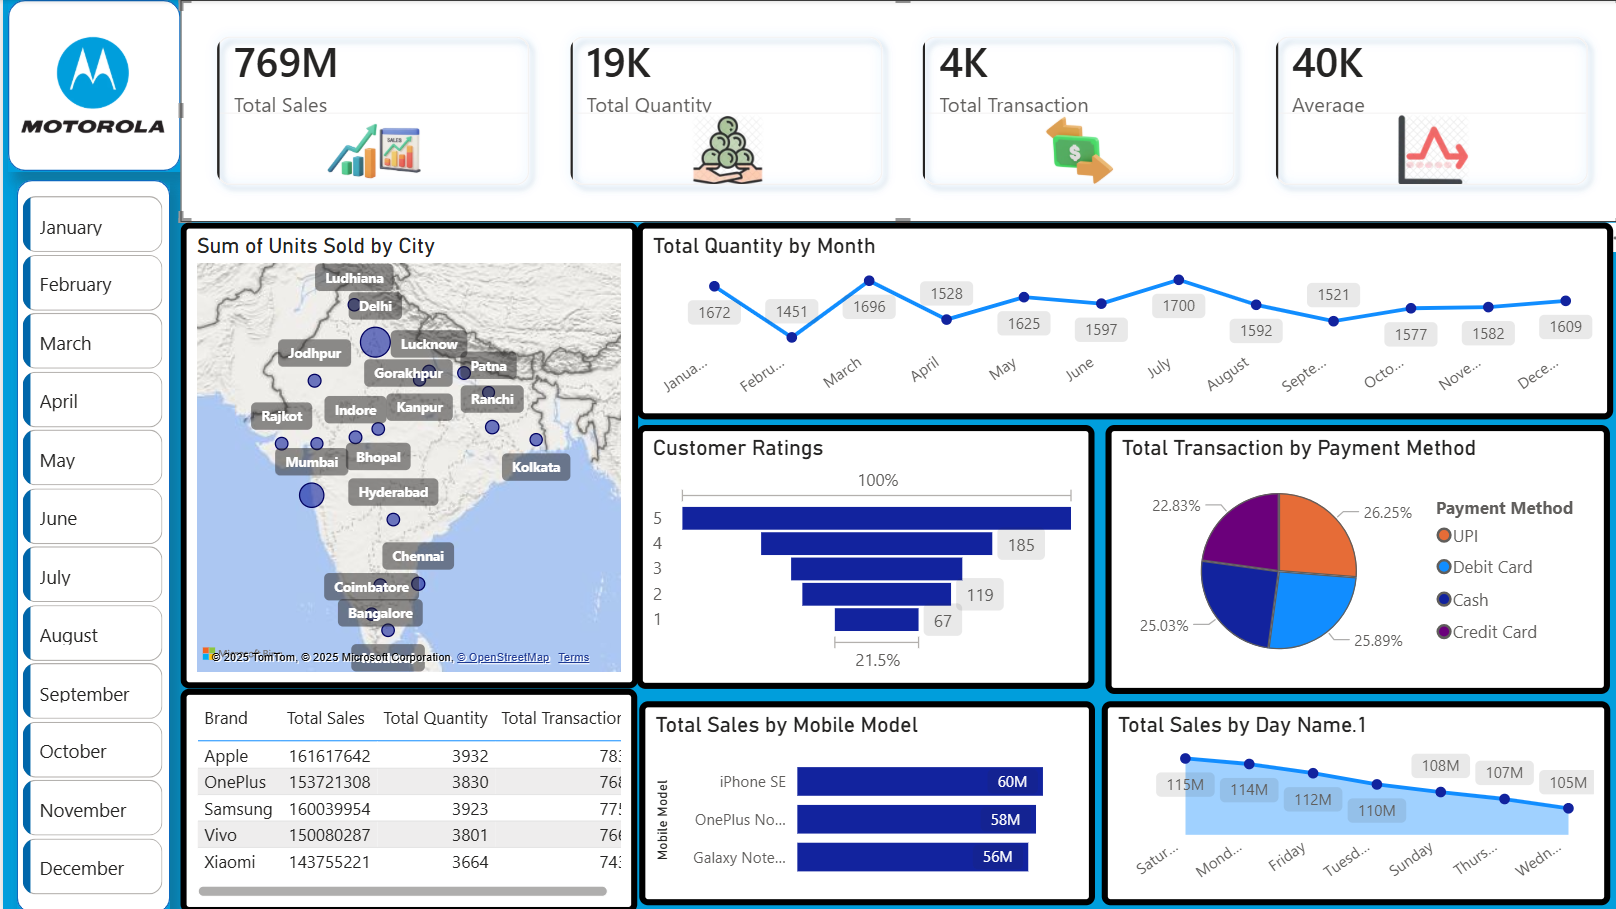

This screenshot's page, from the dashboard's own definition file:
{"tool":"powerbi","page":{"name":"Page 1","canvas":[1280,720],"ordinal":0},"visuals":[{"type":"shape","box":[3.5,0,136,134.9],"z":0},{"type":"image","box":[10.5,0,117.4,134.9],"z":1000},{"type":"shape","box":[10.5,141.9,120.9,577.9],"z":2000},{"type":"advancedSlicerVisual","fields":{"Values":["Sheet1.Date.Variation.Date Hierarchy.Month"]},"box":[10.5,150,120.9,562.8],"z":3000},{"type":"cardVisual","fields":{"Data":["Sheet1.Total Sales","Sales_data.Total Quantity","Sales_data.Total Transaction","Sales_data.Average"]},"box":[139.5,0,1140.7,175.6],"z":4000},{"type":"map","fields":{"Category":["Sales_data.City"],"Size":["Sum(Sales_data.Units Sold)"]},"box":[139.5,175.6,360.5,367.4],"z":5000},{"type":"lineChart","fields":{"Category":["Sales_data.Date.Variation.Date Hierarchy.Month","Sales_data.Date.Variation.Date Hierarchy.Day"],"Y":["Sales_data.Total Quantity"]},"box":[499.5,175.6,769.8,155.1],"z":6000},{"type":"clusteredBarChart","fields":{"Category":["Sales_data.Mobile Model"],"Y":["Sales_data.Total Sales"]},"box":[501.2,552.3,359.3,160.5],"z":7000},{"type":"pieChart","fields":{"Category":["Sales_data.Payment Method"],"Y":["Sales_data.Total Transaction"]},"box":[868.6,334.9,397.7,211.6],"z":8000},{"type":"funnel","title":"Customer Ratings","fields":{"Category":["Sales_data.Customer Ratings"],"Y":["CountNonNull(Sales_data.Customer Ratings)"]},"box":[500,334.9,360.5,208.1],"z":9000},{"type":"areaChart","fields":{"Category":["Sales_data.Day Name.1"],"Y":["Sales_data.Total Sales"]},"box":[866.3,552.3,401.2,160.5],"z":10000},{"type":"tableEx","fields":{"Values":["Sales_data.Brand","Sales_data.Total Sales","Sales_data.Total Quantity","Sales_data.Total Transaction"]},"box":[140,543,360,177],"z":11000}]}

Visuals, with their boxes in screenshot pixels (x1, y1, x2, y2), scaled from the page's 1280x720 canvas onto the 1616x909 screenshot:
shape: BBox(4, 0, 176, 170)
image: BBox(13, 0, 161, 170)
shape: BBox(13, 179, 166, 908)
advancedSlicerVisual - Sheet1.Date.Variation.Date Hierarchy.Month: BBox(13, 189, 166, 900)
cardVisual - Sheet1.Total Sales x Sales_data.Total Quantity: BBox(176, 0, 1615, 222)
map - Sales_data.City x Sum(Sales_data.Units Sold): BBox(176, 222, 631, 686)
lineChart - Sales_data.Date.Variation.Date Hierarchy.Month x Sales_data.Date.Variation.Date Hierarchy.Day: BBox(631, 222, 1602, 418)
clusteredBarChart - Sales_data.Mobile Model x Sales_data.Total Sales: BBox(633, 697, 1086, 900)
pieChart - Sales_data.Payment Method x Sales_data.Total Transaction: BBox(1097, 423, 1599, 690)
"Customer Ratings" funnel: BBox(631, 423, 1086, 686)
areaChart - Sales_data.Day Name.1 x Sales_data.Total Sales: BBox(1094, 697, 1600, 900)
tableEx - Sales_data.Brand x Sales_data.Total Sales: BBox(177, 686, 631, 908)
